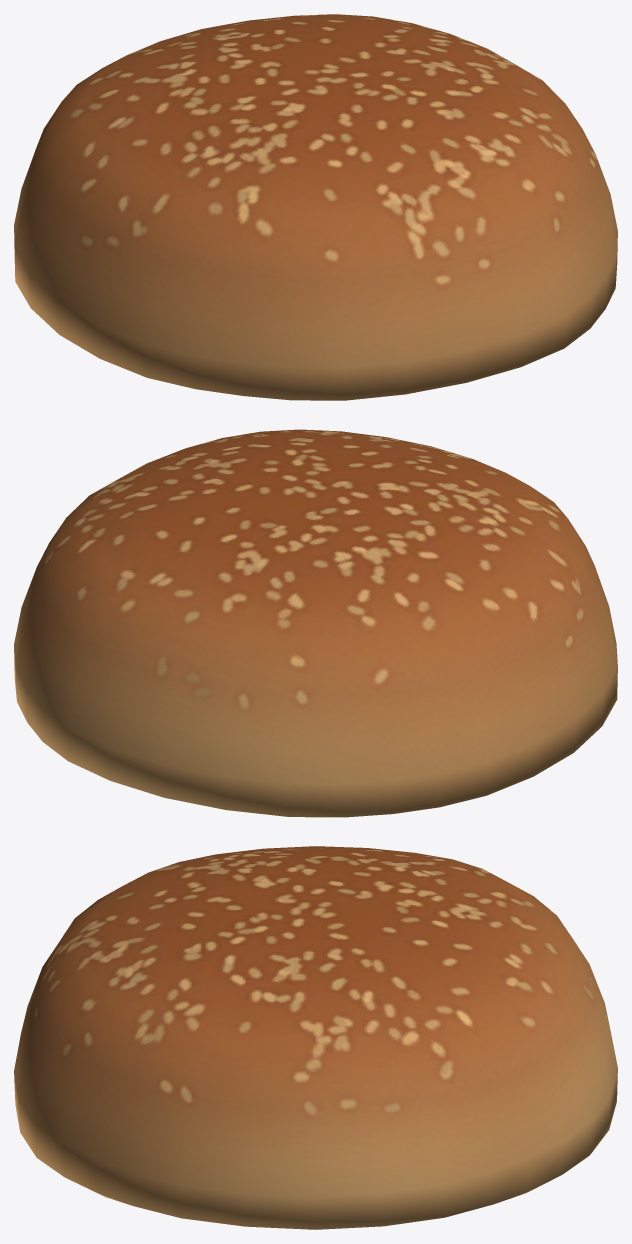
Rendered from Burger_Bun_Lid.fbx.
3 renders of one model, top to bottom at view 1: azimuth 30°, elevation 25°; view 2: azimuth 150°, elevation 25°; view 3: azimuth 270°, elevation 25°, orthographic.
Parts seen in each view (by area): view 1: Burger_Bun_Lid; view 2: Burger_Bun_Lid; view 3: Burger_Bun_Lid.
Boxes of the visible parts, bbox=[...] form: Burger_Bun_Lid: bbox=[14, 14, 617, 400]; Burger_Bun_Lid: bbox=[14, 429, 617, 817]; Burger_Bun_Lid: bbox=[14, 846, 617, 1229].
Bounding box in the file's own units: 0.6223 × 0.2333 × 0.6244.
Materials: 1 (1 with a texture image).
